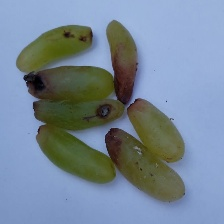grapes: (0, 48, 199, 208)
